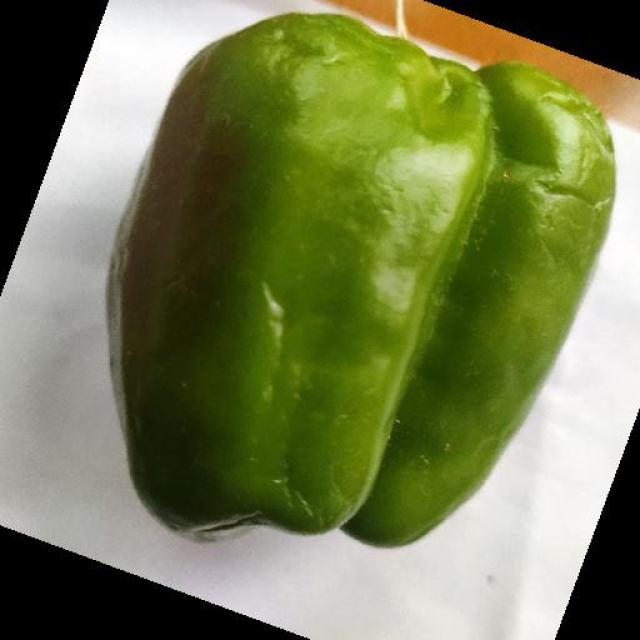Stale_Capsicum: (103, 21, 495, 509)
